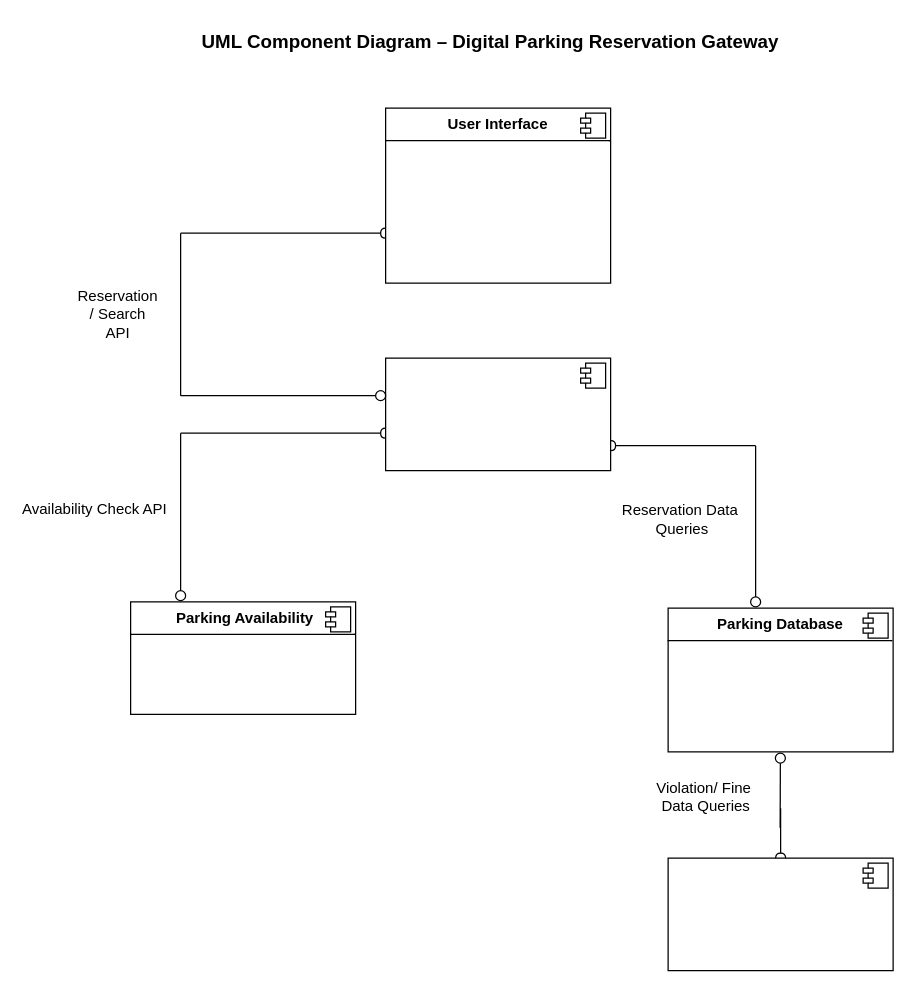
This 915x993 diagram has some shape labels left out. The shapes that lost their labels are listed below. From the top down, each one's centre as x and y in pixels, then its label:
At (x=497, y=414): "Parking Reservation".
At (x=780, y=914): "Violation & Fine".
